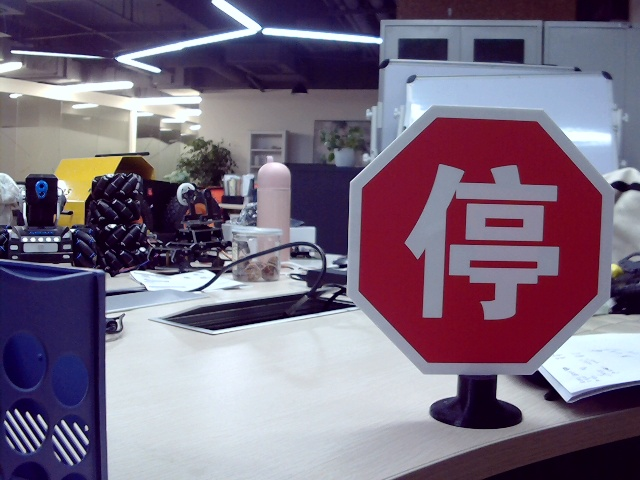stop: (405, 158, 560, 322)
